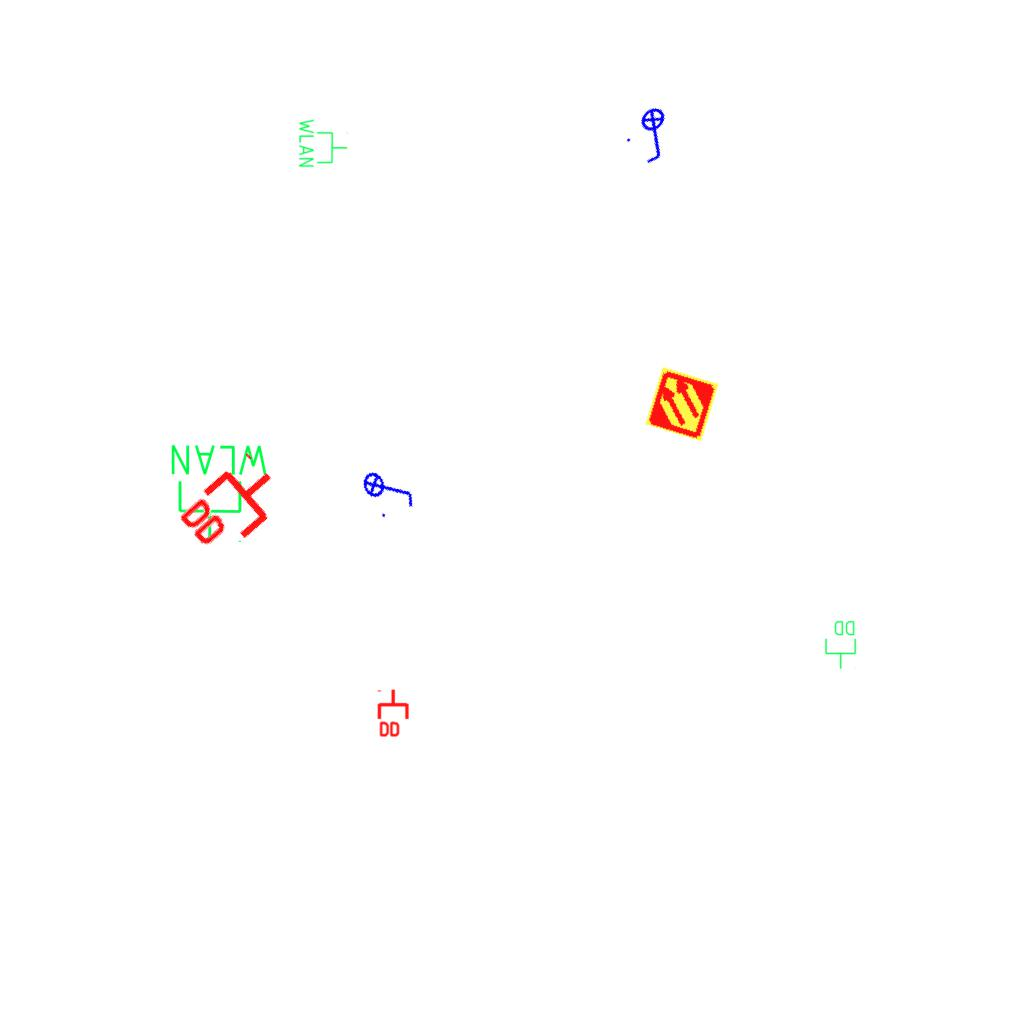ASR_Ansaugrauchmelder: (643, 365, 721, 443)
Ausschalter_beleuchtet: (618, 98, 692, 172), (357, 454, 421, 524)
Datenanschluss_zweifach: (171, 448, 296, 569), (824, 619, 858, 670), (377, 688, 411, 739)
WLAN: (167, 441, 272, 545), (297, 117, 349, 169)
